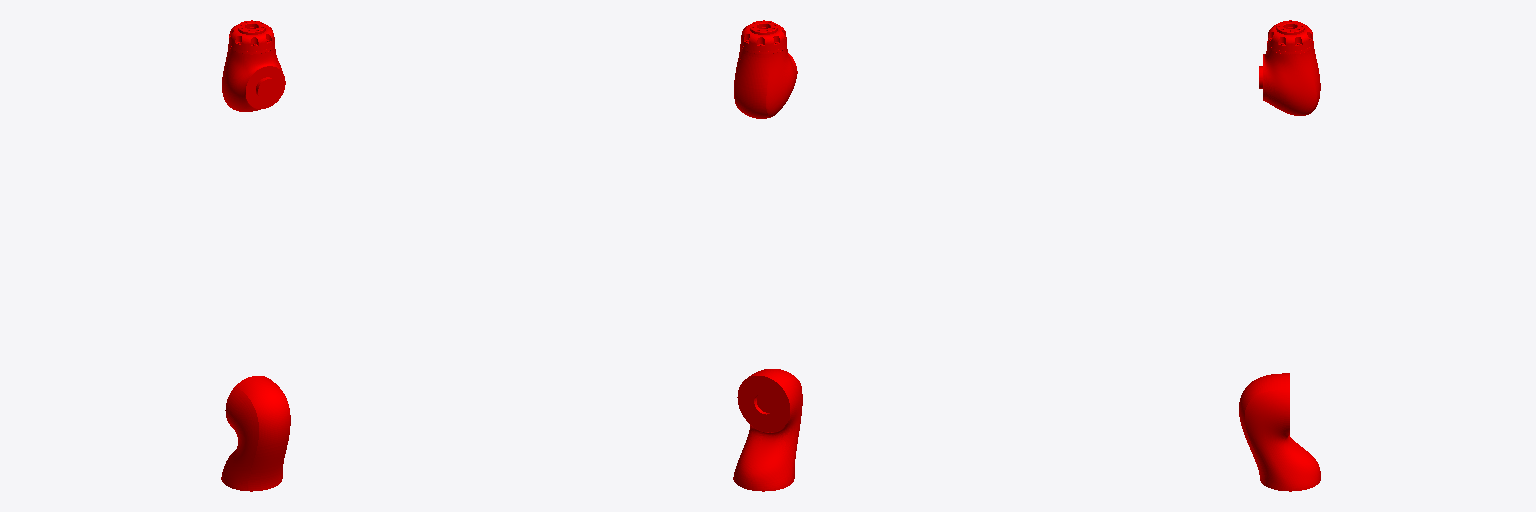
robot.urdf — med7:
<?xml version="1.0" ?>
<robot name="med7">
    <link name="world" />
    <joint name="world_iiwa7_joint" type="fixed">
        <!-- joint between world and robot -->
        <origin rpy="0 0 0" xyz="0.0 0.0 0.0" />
        <parent link="world" />
        <child link="base_link" />
    </joint>
    <link name="base_link">
        
<inertial>
            <origin rpy="0 0 0" xyz="-0.0018958727522859222 -8.736009549202623e-09 0.07626305487275586" />
            <mass value="46.20540698229506" />
            <inertia ixx="0.250291" ixy="-0.0" ixz="-0.004435" iyy="0.255257" iyz="-0.0" izz="0.351803" />
        </inertial>

        <visual>
            <origin rpy="0 0 0" xyz="0 0 0" />
            <geometry>
                <mesh filename="package://lbr_description/meshes/med7/visual/base_link.stl" />
            </geometry>
            <material name="silver">
                <color rgba="1 0 0 1" />
            </material>
        </visual>
        <collision>
            <origin rpy="0 0 0" xyz="0 0 0" />
            <geometry>
                <mesh filename="package://lbr_description/meshes/med7/collision/base_link.stl" />
            </geometry>
        </collision>
    </link>
    <joint name="A1" type="revolute">
        <origin rpy="0 0 0" xyz="0.0 0.0 0.1475" />
        <parent link="base_link" />
        <child link="link_1" />
        <axis xyz="0.0 0.0 0.01" />
        <limit effort="100" lower="-2.96706" upper="2.96706" velocity="1.71042267" />
    </joint>
    <link name="link_1">
        
<inertial>
            <origin rpy="0 0 0" xyz="5.010328793588479e-08 -0.03481903813472808 0.12329857163085542" />
            <mass value="21.161828997118327" />
            <inertia ixx="0.133324" ixy="-0.0" ixz="0.0" iyy="0.127214" iyz="0.023673" izz="0.047155" />
        </inertial>

        <visual>
            <origin rpy="0 0 0" xyz="-0.0 0.0 -0.1475" />
            <geometry>
                <mesh filename="package://lbr_description/meshes/med7/visual/link_1.stl" />
            </geometry>
            <material name="silver">
                <color rgba="1 0 0 1" />
            </material>
        </visual>
        <collision>
            <origin rpy="0 0 0" xyz="-0.0 0.0 -0.1475" />
            <geometry>
                <mesh filename="package://lbr_description/meshes/med7/collision/link_1.stl" />
            </geometry>
        </collision>
    </link>
    <joint name="A2" type="revolute">
        <origin rpy="0 0 0" xyz="-0.0 -0.0105 0.1925" />
        <parent link="link_1" />
        <child link="link_2" />
        <axis xyz="0.0 0.01 0.0" />
        <limit effort="100" lower="-2.094395" upper="2.094395" velocity="1.71042267" />
    </joint>
    <link name="link_2">
        
<inertial>
            <origin rpy="0 0 0" xyz="2.958275959973659e-08 0.03979295468456965 0.08694361150855662" />
            <mass value="25.13966081800886" />
            <inertia ixx="0.19763" ixy="-0.0" ixz="0.0" iyy="0.187553" iyz="0.036718" izz="0.060269" />
        </inertial>

        <visual>
            <origin rpy="0 0 0" xyz="0.0 0.0105 -0.34" />
            <geometry>
                <mesh filename="package://lbr_description/meshes/med7/visual/link_2.stl" />
            </geometry>
            <material name="silver">
                <color rgba="1 0 0 1" />
            </material>
        </visual>
        <collision>
            <origin rpy="0 0 0" xyz="0.0 0.0105 -0.34" />
            <geometry>
                <mesh filename="package://lbr_description/meshes/med7/collision/link_2.stl" />
            </geometry>
        </collision>
    </link>
    <joint name="A3" type="revolute">
        <origin rpy="0 0 0" xyz="0.0 0.0105 0.2075" />
        <parent link="link_2" />
        <child link="link_3" />
        <axis xyz="0.0 0.0 0.01" />
        <limit effort="100" lower="-2.96706" upper="2.96706" velocity="1.74532925" />
    </joint>
    <link name="link_3">
        
<inertial>
            <origin rpy="0 0 0" xyz="-5.010330962930412e-08 0.03481903813473644 0.1232985716309013" />
            <mass value="21.1618289971097" />
            <inertia ixx="0.133324" ixy="-0.0" ixz="-0.0" iyy="0.127214" iyz="-0.023673" izz="0.047155" />
        </inertial>

        <visual>
            <origin rpy="0 0 0" xyz="0.0 -0.0 -0.5475" />
            <geometry>
                <mesh filename="package://lbr_description/meshes/med7/visual/link_3.stl" />
            </geometry>
            <material name="silver">
                <color rgba="1 0 0 1" />
            </material>
        </visual>
        <collision>
            <origin rpy="0 0 0" xyz="0.0 -0.0 -0.5475" />
            <geometry>
                <mesh filename="package://lbr_description/meshes/med7/collision/link_3.stl" />
            </geometry>
        </collision>
    </link>
    <joint name="A4" type="revolute">
        <origin rpy="0 0 0" xyz="0.0 0.0105 0.1925" />
        <parent link="link_3" />
        <child link="link_4" />
        <axis xyz="0.0 -0.01 0.0" />
        <limit effort="100" lower="-2.094395" upper="2.094395" velocity="2.26892803" />
    </joint>
    <link name="link_4">
        
<inertial>
            <origin rpy="0 0 0" xyz="-3.025230048709993e-08 -0.03979329512443697 0.08694363375610437" />
            <mass value="25.139648831600116" />
            <inertia ixx="0.197618" ixy="-0.0" ixz="-0.0" iyy="0.187546" iyz="-0.036716" izz="0.060263" />
        </inertial>

        <visual>
            <origin rpy="0 0 0" xyz="-0.0 -0.0105 -0.74" />
            <geometry>
                <mesh filename="package://lbr_description/meshes/med7/visual/link_4.stl" />
            </geometry>
            <material name="silver">
                <color rgba="1 0 0 1" />
            </material>
        </visual>
        <collision>
            <origin rpy="0 0 0" xyz="-0.0 -0.0105 -0.74" />
            <geometry>
                <mesh filename="package://lbr_description/meshes/med7/collision/link_4.stl" />
            </geometry>
        </collision>
    </link>
    <joint name="A5" type="revolute">
        <origin rpy="0 0 0" xyz="-0.0 -0.0105 0.2075" />
        <parent link="link_4" />
        <child link="link_5" />
        <axis xyz="0.0 0.0 0.01" />
        <limit effort="100" lower="-2.96706" upper="2.96706" velocity="2.44346095" />
    </joint>
    <link name="link_5">
        
<inertial>
            <origin rpy="0 0 0" xyz="3.887174133882675e-08 -0.02982428408876193 0.07626701716135398" />
            <mass value="9.534880920206515" />
            <inertia ixx="0.052905" ixy="0.0" ixz="-0.0" iyy="0.044495" iyz="0.017493" izz="0.023991" />
        </inertial>

        <visual>
            <origin rpy="0 0 0" xyz="0.0 0.0 -0.9475" />
            <geometry>
                <mesh filename="package://lbr_description/meshes/med7/visual/link_5.stl" />
            </geometry>
            <material name="silver">
                <color rgba="1 0 0 1" />
            </material>
        </visual>
        <collision>
            <origin rpy="0 0 0" xyz="0.0 0.0 -0.9475" />
            <geometry>
                <mesh filename="package://lbr_description/meshes/med7/collision/link_5.stl" />
            </geometry>
        </collision>
    </link>
    <joint name="A6" type="revolute">
        <origin rpy="0 0 0" xyz="0.0 -0.0707 0.1925" />
        <parent link="link_5" />
        <child link="link_6" />
        <axis xyz="0.0 0.01 0.0" />
        <limit effort="100" lower="-2.094395" upper="2.094395" velocity="3.14159265" />
    </joint>
    <link name="link_6">
        
<inertial>
            <origin rpy="0 0 0" xyz="-7.073221144775636e-07 0.07101990943401648 0.004952526180360017" />
            <mass value="14.987109331100873" />
            <inertia ixx="0.044068" ixy="-0.0" ixz="1e-06" iyy="0.042427" iyz="0.001941" izz="0.028865" />
        </inertial>

        <visual>
            <origin rpy="0 0 0" xyz="0.0 0.0707 -1.14" />
            <geometry>
                <mesh filename="package://lbr_description/meshes/med7/visual/link_6.stl" />
            </geometry>
            <material name="silver">
                <color rgba="1 0 0 1" />
            </material>
        </visual>
        <collision>
            <origin rpy="0 0 0" xyz="0.0 0.0707 -1.14" />
            <geometry>
                <mesh filename="package://lbr_description/meshes/med7/collision/link_6.stl" />
            </geometry>
        </collision>
    </link>
    <joint name="A7" type="revolute">
        <origin rpy="0 0 0" xyz="0.0 0.0707 0.091" />
        <parent link="link_6" />
        <child link="link_7" />
        <axis xyz="0.0 0.0 0.01" />
        <limit effort="100" lower="-3.054326" upper="3.054326" velocity="3.14159265" />
    </joint>
    <link name="link_7">
        
<inertial>
            <origin rpy="0 0 0" xyz="3.1218274599808524e-06 -1.6358155634513969e-06 0.013782295521067356" />
            <mass value="1.6178339975962697" />
            <inertia ixx="0.001066" ixy="0.0" ixz="-0.0" iyy="0.001066" iyz="0.0" izz="0.001864" />
        </inertial>

        <visual>
            <origin rpy="0 0 0" xyz="-0.0 -0.0 -1.231" />
            <geometry>
                <mesh filename="package://lbr_description/meshes/med7/visual/link_7.stl" />
            </geometry>
            <material name="silver">
                <color rgba="1 0 0 1" />
            </material>
        </visual>
        <collision>
            <origin rpy="0 0 0" xyz="-0.0 -0.0 -1.231" />
            <geometry>
                <mesh filename="package://lbr_description/meshes/med7/collision/link_7.stl" />
            </geometry>
        </collision>
    </link>
    
<transmission name="trans_A1">
        <type>transmission_interface/SimpleTransmission</type>
        <joint name="A1">
            <hardwareInterface>hardware_interface/PositionJointInterface</hardwareInterface>
        </joint>
        <actuator name="A1_motor">
            <hardwareInterface>hardware_interface/PositionJointInterface</hardwareInterface>
            <mechanicalReduction>1</mechanicalReduction>
        </actuator>
    </transmission>
    <transmission name="trans_A2">
        <type>transmission_interface/SimpleTransmission</type>
        <joint name="A2">
            <hardwareInterface>hardware_interface/PositionJointInterface</hardwareInterface>
        </joint>
        <actuator name="A2_motor">
            <hardwareInterface>hardware_interface/PositionJointInterface</hardwareInterface>
            <mechanicalReduction>1</mechanicalReduction>
        </actuator>
    </transmission>
    <transmission name="trans_A3">
        <type>transmission_interface/SimpleTransmission</type>
        <joint name="A3">
            <hardwareInterface>hardware_interface/PositionJointInterface</hardwareInterface>
        </joint>
        <actuator name="A3_motor">
            <hardwareInterface>hardware_interface/PositionJointInterface</hardwareInterface>
            <mechanicalReduction>1</mechanicalReduction>
        </actuator>
    </transmission>
    <transmission name="trans_A4">
        <type>transmission_interface/SimpleTransmission</type>
        <joint name="A4">
            <hardwareInterface>hardware_interface/PositionJointInterface</hardwareInterface>
        </joint>
        <actuator name="A4_motor">
            <hardwareInterface>hardware_interface/PositionJointInterface</hardwareInterface>
            <mechanicalReduction>1</mechanicalReduction>
        </actuator>
    </transmission>
    <transmission name="trans_A5">
        <type>transmission_interface/SimpleTransmission</type>
        <joint name="A5">
            <hardwareInterface>hardware_interface/PositionJointInterface</hardwareInterface>
        </joint>
        <actuator name="A5_motor">
            <hardwareInterface>hardware_interface/PositionJointInterface</hardwareInterface>
            <mechanicalReduction>1</mechanicalReduction>
        </actuator>
    </transmission>
    <transmission name="trans_A6">
        <type>transmission_interface/SimpleTransmission</type>
        <joint name="A6">
            <hardwareInterface>hardware_interface/PositionJointInterface</hardwareInterface>
        </joint>
        <actuator name="A6_motor">
            <hardwareInterface>hardware_interface/PositionJointInterface</hardwareInterface>
            <mechanicalReduction>1</mechanicalReduction>
        </actuator>
    </transmission>
    <transmission name="trans_A7">
        <type>transmission_interface/SimpleTransmission</type>
        <joint name="A7">
            <hardwareInterface>hardware_interface/PositionJointInterface</hardwareInterface>
        </joint>
        <actuator name="A7_motor">
            <hardwareInterface>hardware_interface/PositionJointInterface</hardwareInterface>
            <mechanicalReduction>1</mechanicalReduction>
        </actuator>
    </transmission>
    <gazebo>
        <plugin name="gazebo_ros_control" filename="libgazebo_ros_control.so">
            <robotNamespace>/</robotNamespace>
        </plugin>
    </gazebo>
</robot>

--- What the picture shows (computed from the rendered views, not written in the file) ---
Views: 3 orthographic renders of the robot side by side, from view 1: azimuth 30°, elevation 25°; view 2: azimuth 150°, elevation 25°; view 3: azimuth 270°, elevation 25°.
Model med7 with 9 links and 8 joints (7 revolute, 1 fixed), rooted at world, posed every joint at zero.
Visible links, largest first — view 1: link_1, link_6, link_7; view 2: link_1, link_6, link_7; view 3: link_1, link_6, link_7.
Link boxes in pixels (x1,y1,x2,y2): link_1: (221, 376, 290, 491); link_6: (222, 44, 285, 111); link_7: (229, 20, 274, 51); link_1: (733, 369, 802, 491); link_6: (734, 44, 797, 118); link_7: (741, 20, 786, 51); link_1: (1239, 373, 1320, 491); link_6: (1259, 41, 1320, 115); link_7: (1268, 20, 1312, 51).
Size in the robot's own frame: 0.136 by 0.1826 by 1.12 metres.
3 mesh visuals loaded from 8 distinct referenced files (3 binary STL); not drawn: 5 (reference not matched to a file when rendering).